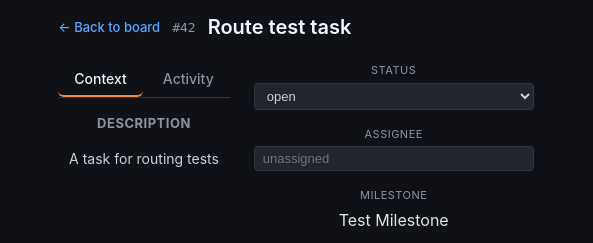
Test: App routing › navigates back to board via back link from task detail
Expected: the heading "Route test task" is shown, [208, 16, 351, 38]
Step 1. Click the link "← Back to board" → (109, 27), box [58, 18, 160, 37]
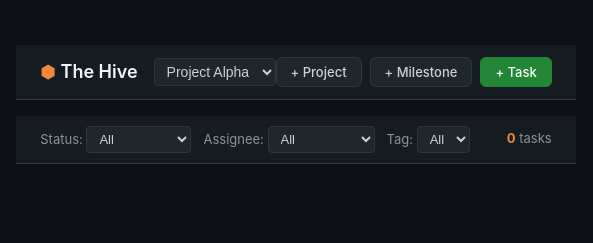
Result: the heading "⬢ The Hive" is shown at [40, 62, 138, 81]
